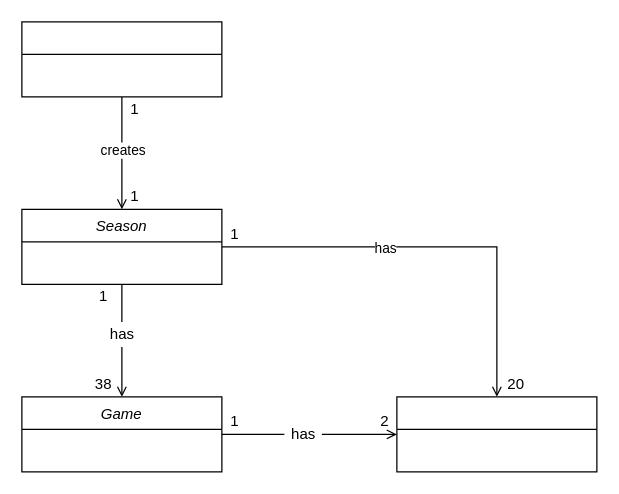
Some shapes in this 619 by 494 pixel diagram are drawn without their labels. Here are the shapes that lost their labels. From the top down, the centre of each, then its label:
point 121,59: Simulation
point 496,434: Team
